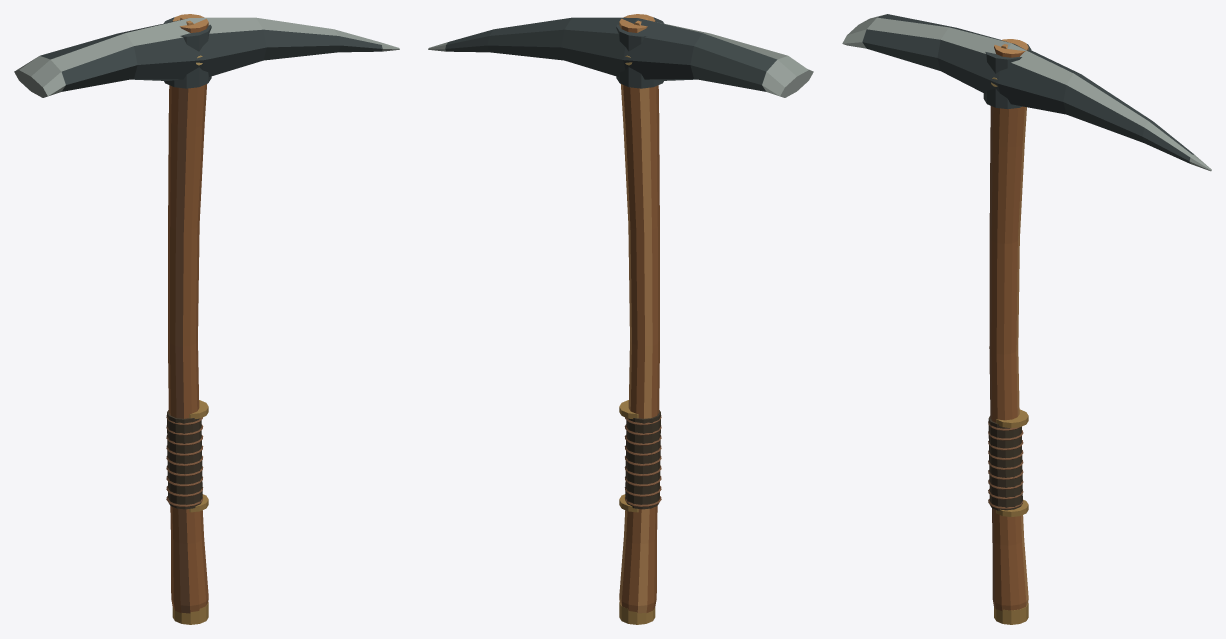
File: pickaxe.glb
3 views of the same model, side by side, from view 1: azimuth 30°, elevation 25°; view 2: azimuth 150°, elevation 25°; view 3: azimuth 330°, elevation 25° (orthographic). The views are drawn at different scales.
Visible parts, largest first — view 1: pickaxe_surface; view 2: pickaxe_surface; view 3: pickaxe_surface.
Boxes of the visible parts, <box> form: pickaxe_surface: <box>14,14,399,624</box>; pickaxe_surface: <box>428,14,813,624</box>; pickaxe_surface: <box>842,14,1211,624</box>.
Size of the model in its own units: 0.565 by 0.88 by 0.09.
